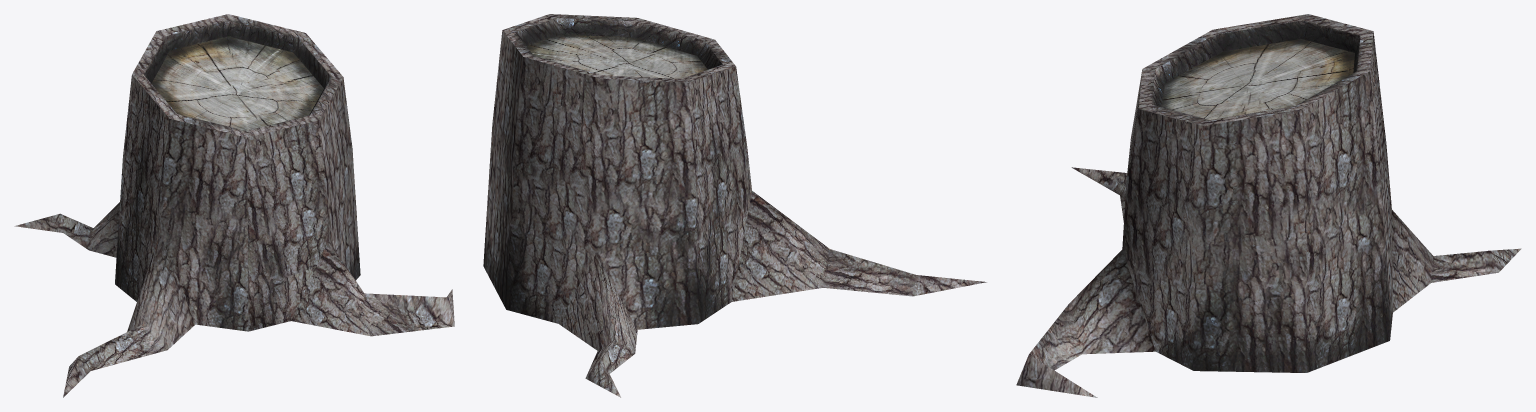
Rendered from stump.FBX.
3 views of the same model, side by side, from view 1: azimuth 30°, elevation 25°; view 2: azimuth 150°, elevation 25°; view 3: azimuth 270°, elevation 25° (orthographic). The views are drawn at different scales.
Parts seen in each view (by area): view 1: Cylinder43; view 2: Cylinder43; view 3: Cylinder43.
Boxes of the visible parts, left/top/right/bottom form: Cylinder43: left=14, top=14, right=454, bottom=397; Cylinder43: left=483, top=14, right=986, bottom=397; Cylinder43: left=1016, top=14, right=1521, bottom=397.
Size of the model in its own units: 7.1 by 3.79 by 6.47.
1 material, 1 textured.
